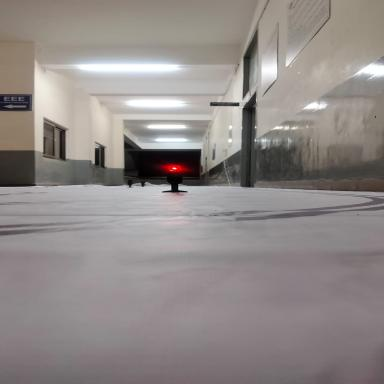traffic red: (141, 147, 220, 203)
